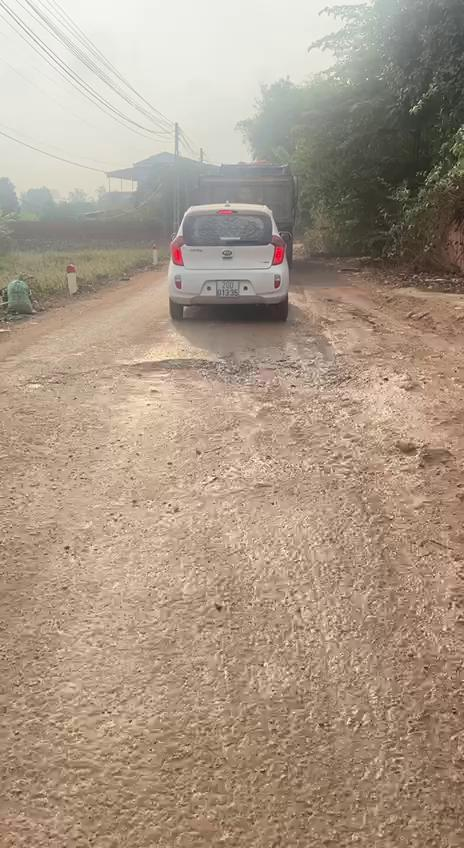pothole: (114, 357, 358, 389)
